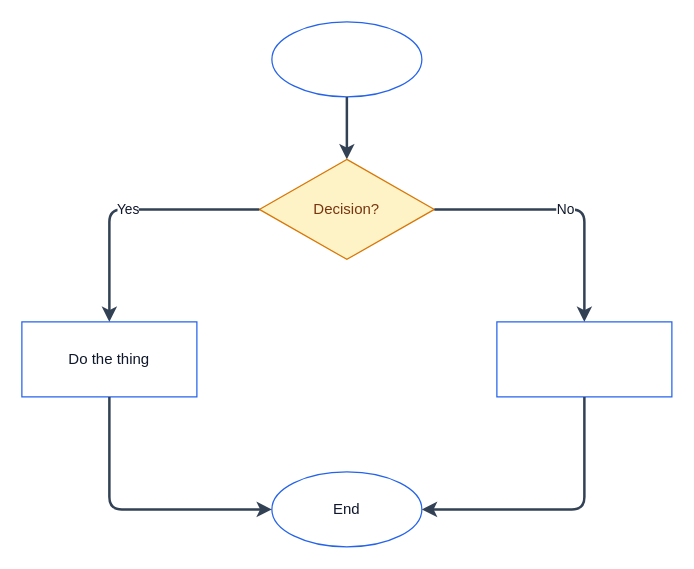
This 694x569 diagram has some shape labels left out. The centre of each missing label's shape, as x and y in pixels:
Do the other thing: (x=584, y=359)
Start: (x=346, y=59)
